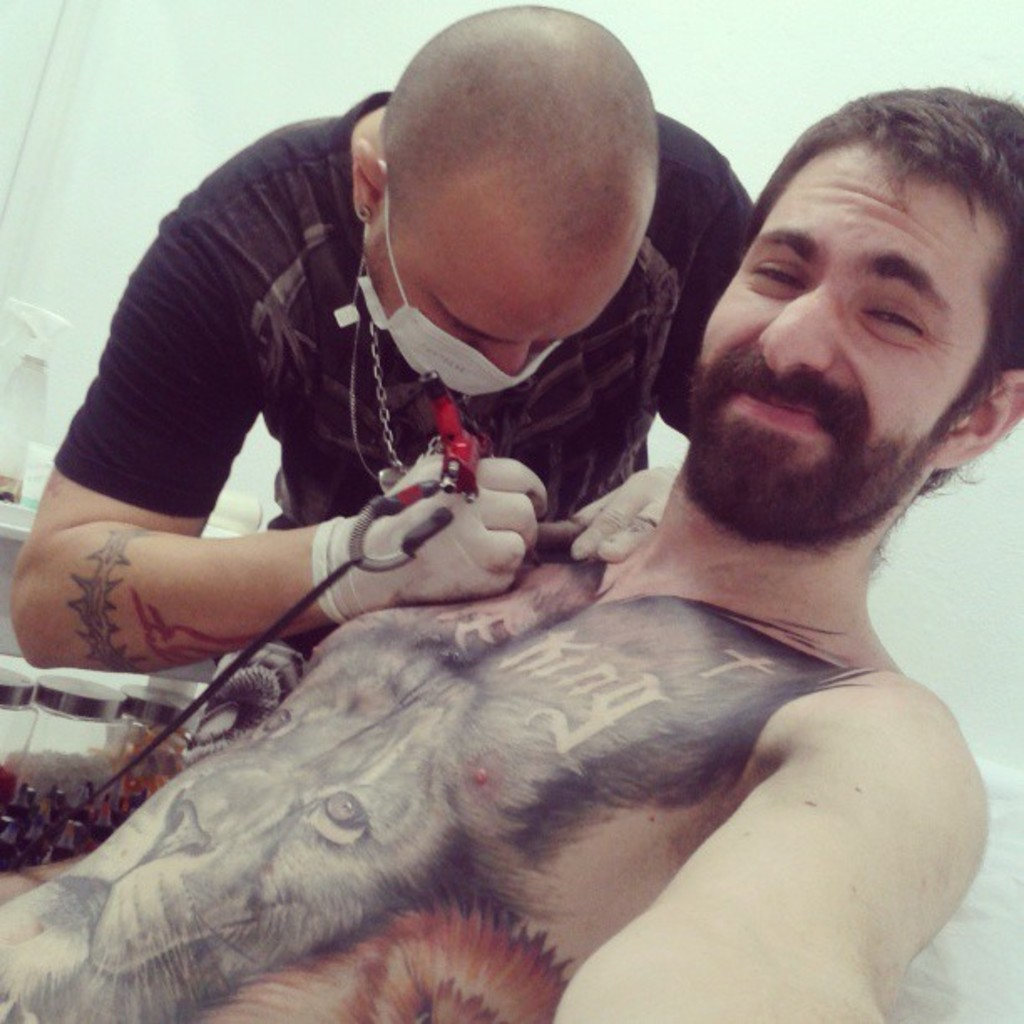Human_hand: (318, 453, 567, 609), (534, 450, 694, 567)
